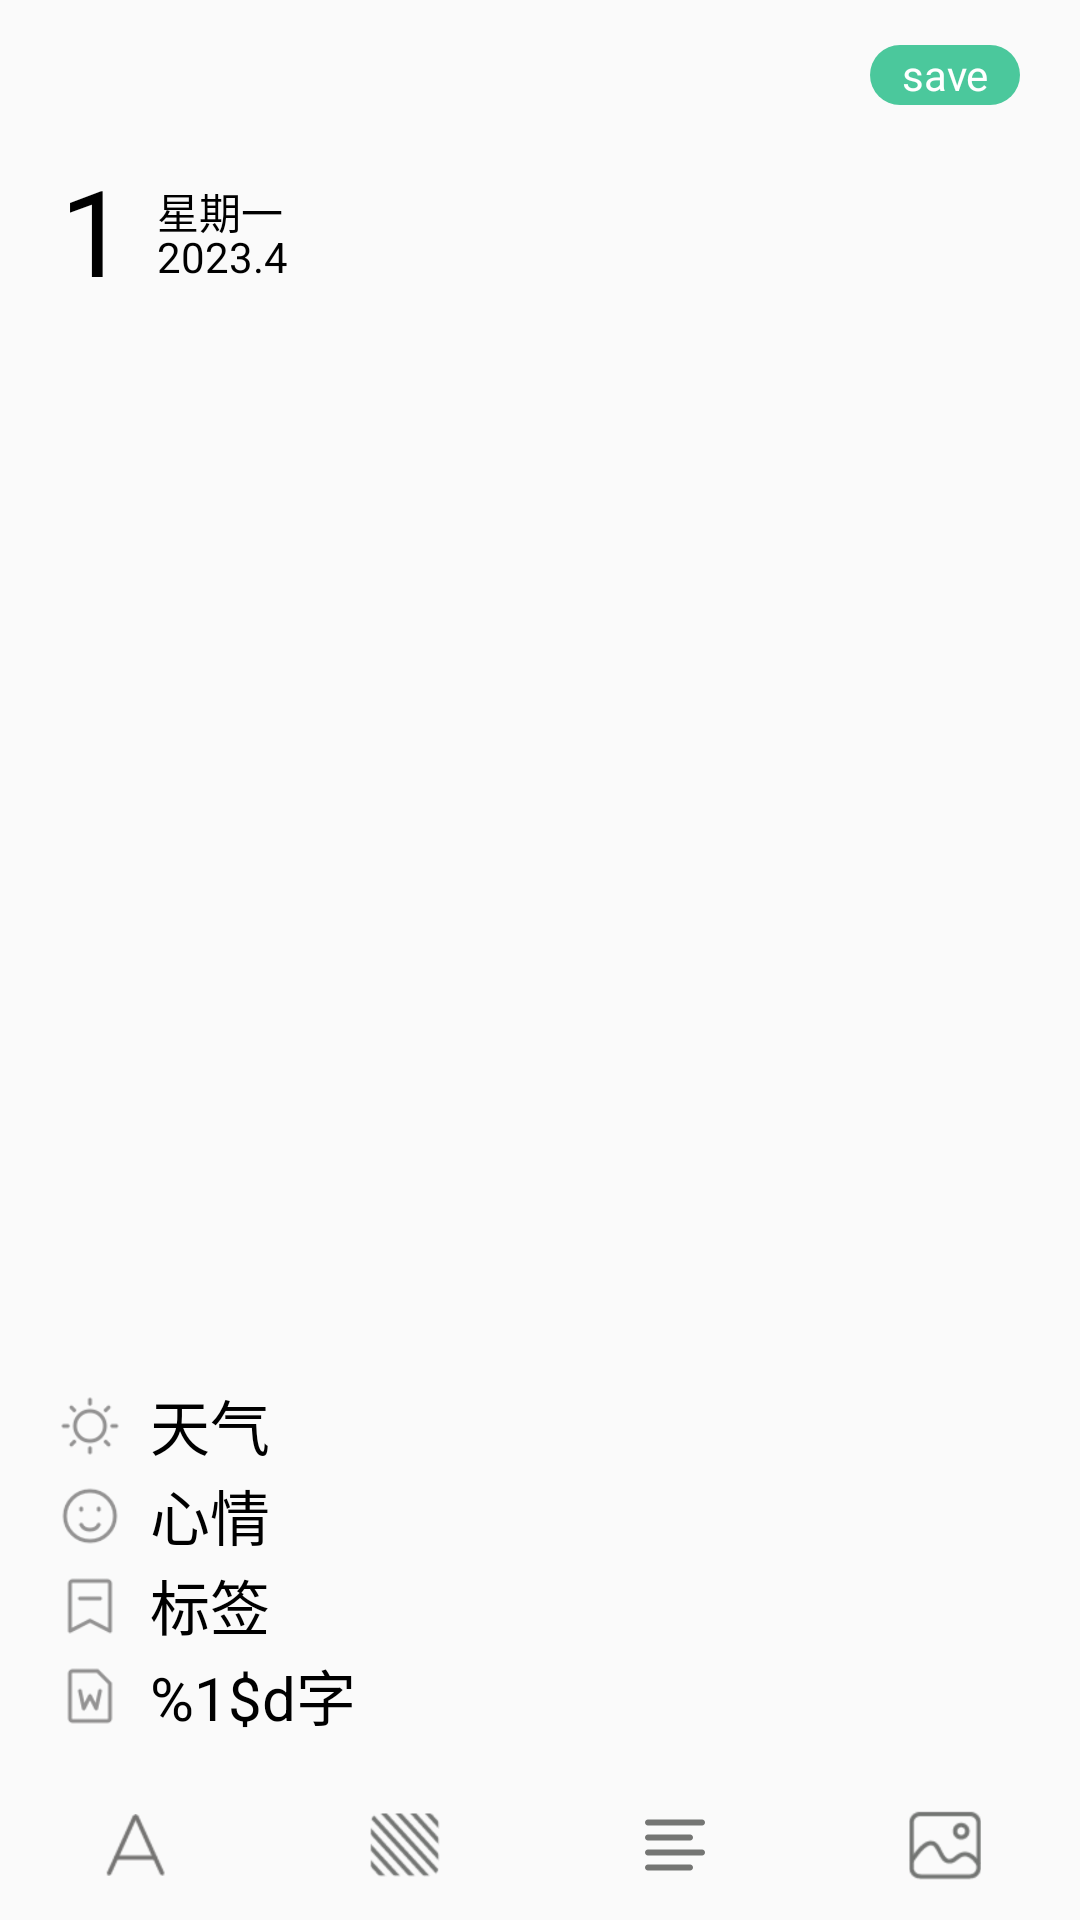

Where to tap for icons on this 1080 x 1920 app screen, as (x,y):
format: (675,1845)
insert pic: (945,1845)
tag: (90,1605)
tag mood: (90,1516)
tag text number: (90,1696)
tag weather: (90,1426)
text: (135,1845)
